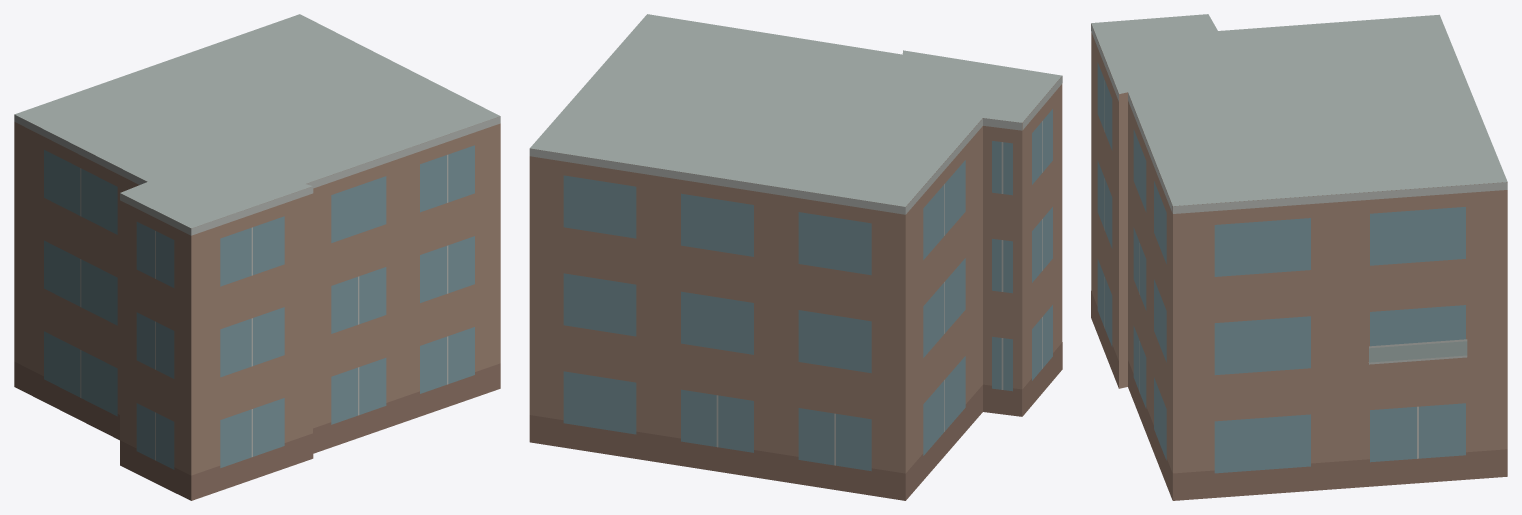
File: survey-upis-32711338.glb
3 renders of one model, left to right at view 1: azimuth 30°, elevation 25°; view 2: azimuth 150°, elevation 25°; view 3: azimuth 270°, elevation 25°, orthographic. The views are drawn at different scales.
Parts seen in each view (by area): view 1: survey-upis-32711338.tmp; view 2: survey-upis-32711338.tmp; view 3: survey-upis-32711338.tmp.
Boxes of the visible parts, bbox=[...] form: survey-upis-32711338.tmp: bbox=[14, 14, 500, 500]; survey-upis-32711338.tmp: bbox=[529, 14, 1062, 500]; survey-upis-32711338.tmp: bbox=[1091, 14, 1507, 500].
Bounding box in the file's own units: 12.81 × 9.15 × 11.74.
